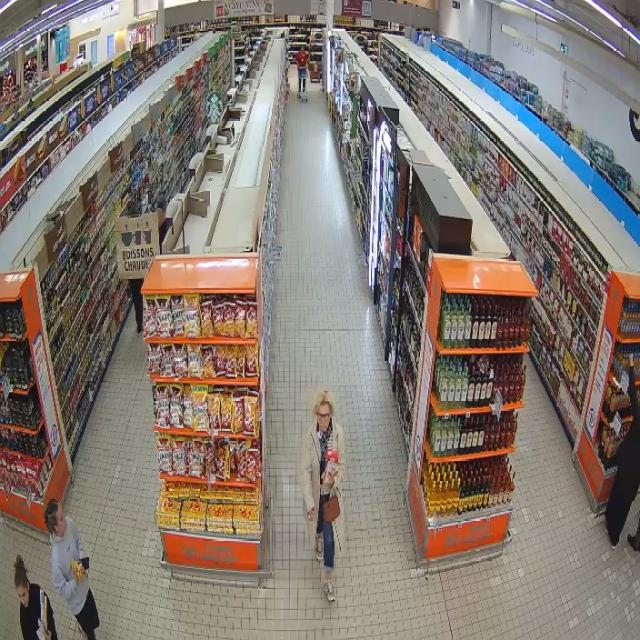article: (321, 458, 340, 480), (70, 559, 83, 581), (325, 448, 339, 468), (44, 596, 47, 630), (40, 589, 43, 622)
bags: (323, 495, 339, 522)
hands: (77, 568, 87, 583), (324, 475, 334, 487), (308, 508, 316, 520), (629, 354, 634, 367), (45, 630, 51, 639)
person: (300, 389, 346, 602), (45, 501, 99, 639), (605, 356, 639, 547), (15, 556, 58, 639)
